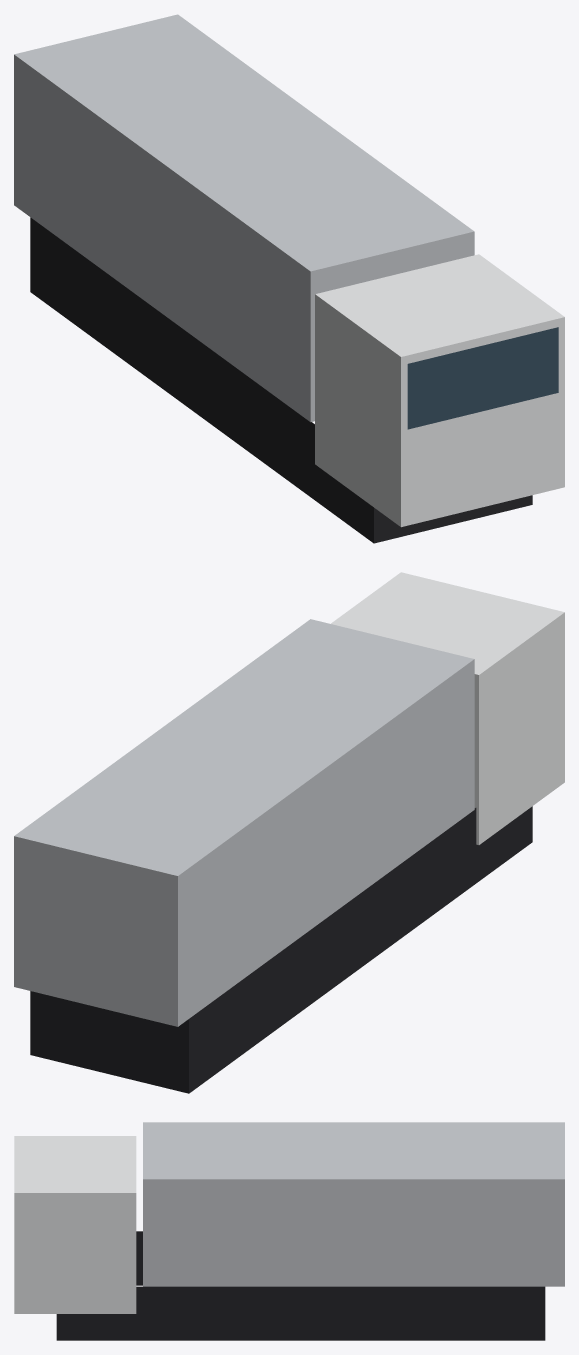
Rendered from 362_far.fbx.
3 renders of one model, top to bottom at view 1: azimuth 30°, elevation 25°; view 2: azimuth 150°, elevation 25°; view 3: azimuth 270°, elevation 25°, orthographic. The views are drawn at different scales.
Parts seen in each view (by area): view 1: 362_far; view 2: 362_far; view 3: 362_far.
Boxes of the visible parts, x1,y1,x2,y2 form: 362_far: [14, 14, 564, 543]; 362_far: [14, 572, 564, 1093]; 362_far: [14, 1122, 564, 1340].
Size of the model in its own units: 2.48 by 3.3 by 10.14.
